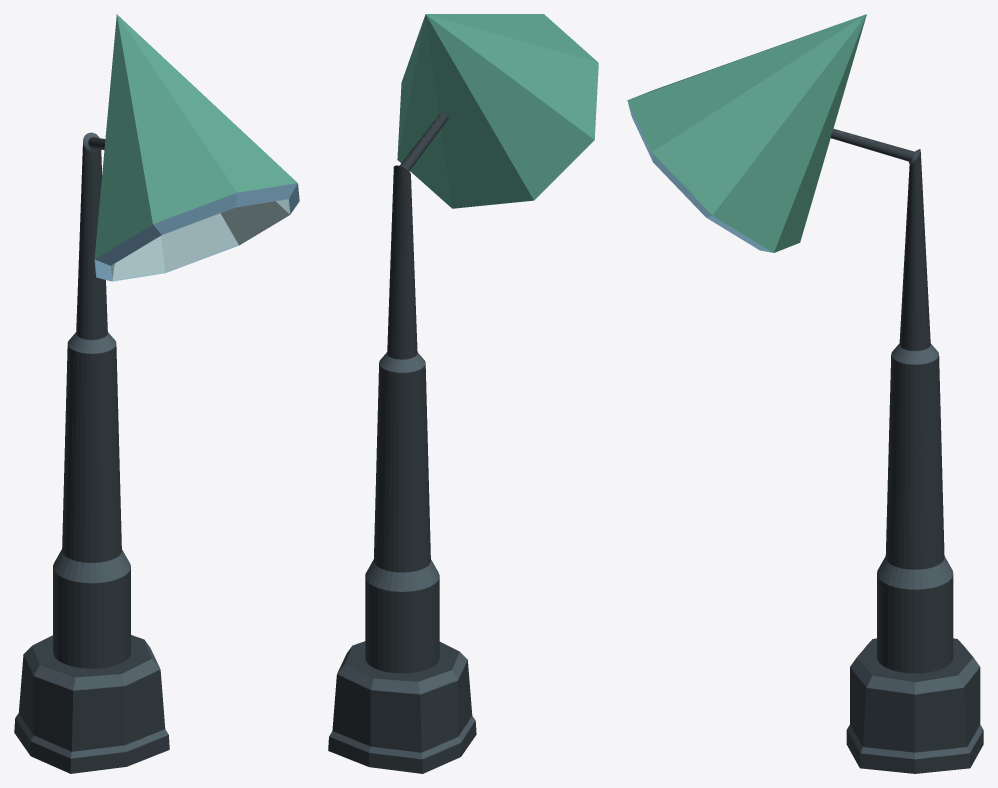
Rendered from FieldLamp.fbx.
The picture shows the model from 3 angles, left to right: view 1: azimuth 30°, elevation 25°; view 2: azimuth 150°, elevation 25°; view 3: azimuth 270°, elevation 25°; orthographic projection. The views are drawn at different scales.
Parts seen in each view (by area): view 1: Cylinder.001; view 2: Cylinder.001; view 3: Cylinder.001.
Part boxes in pixels (x1,y1,x2,y2): Cylinder.001: (14,14,299,773); Cylinder.001: (328,14,598,773); Cylinder.001: (627,14,983,773).
Bounding box in the file's own units: 433 × 124 × 191.
